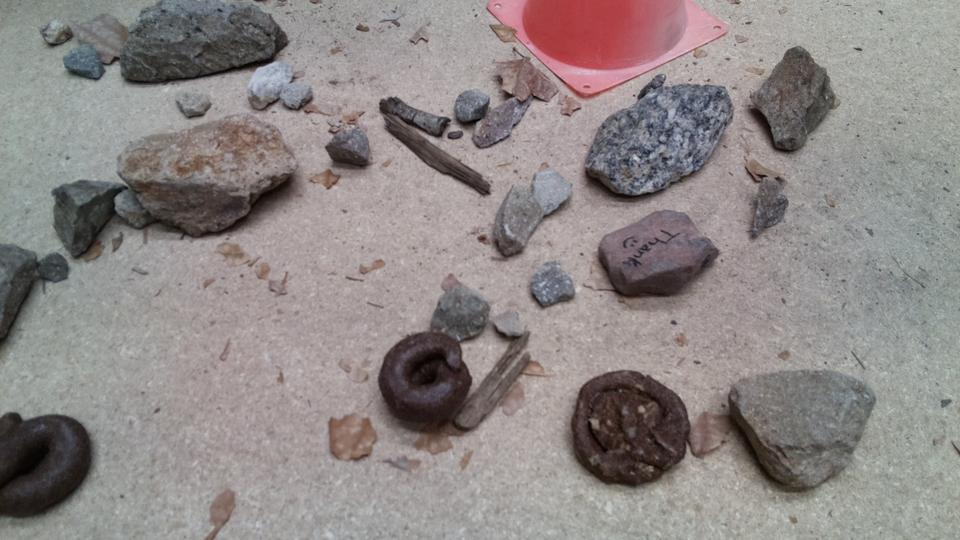poop: (570, 367, 693, 490), (1, 412, 96, 518), (379, 331, 475, 428)
